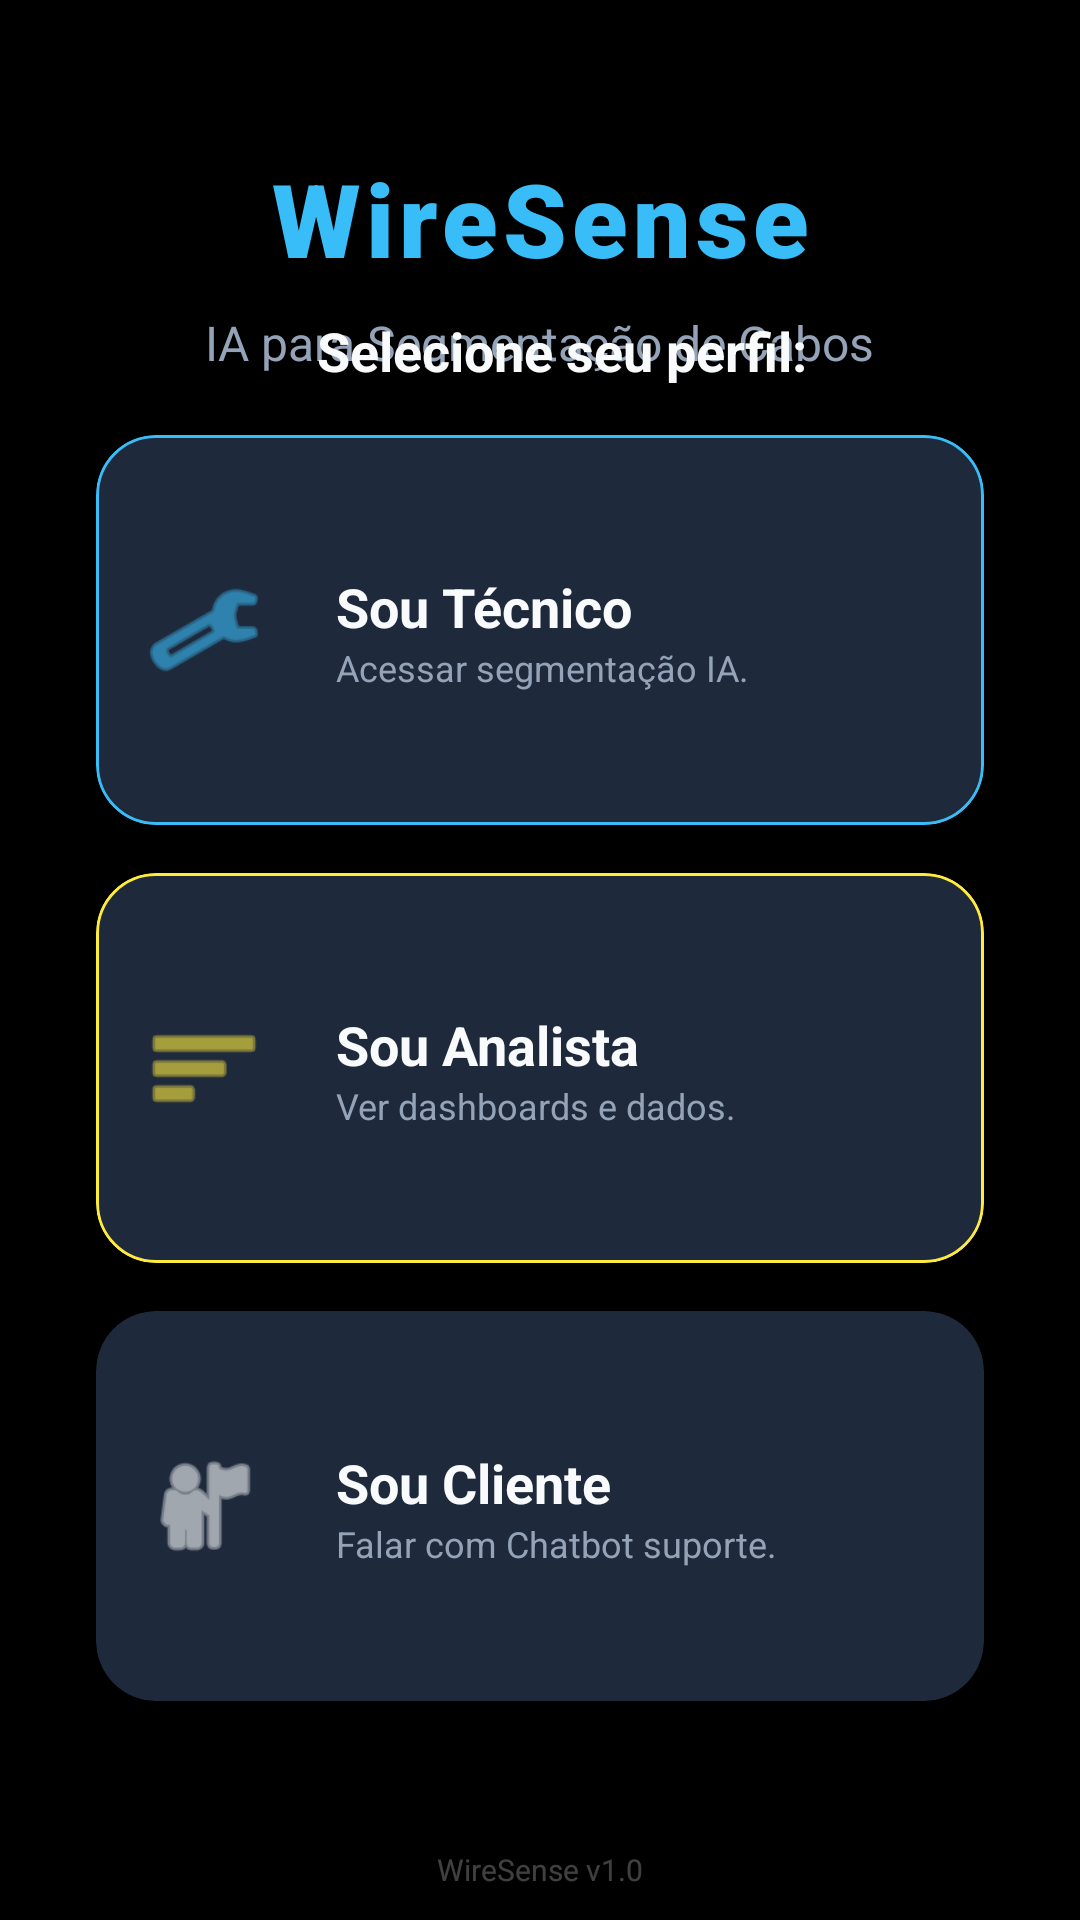

Point at icon controls on the screen. Image size 1080px x 1920px, points as (x=x, y=y).
manage: (x=204, y=630)
myplaces: (x=205, y=1506)
sort by size: (x=204, y=1068)
